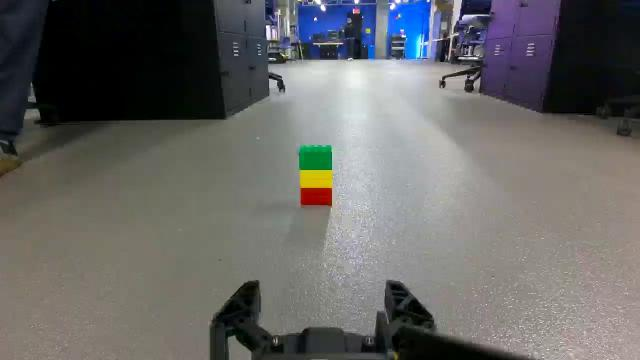lego: (296, 147, 334, 207)
